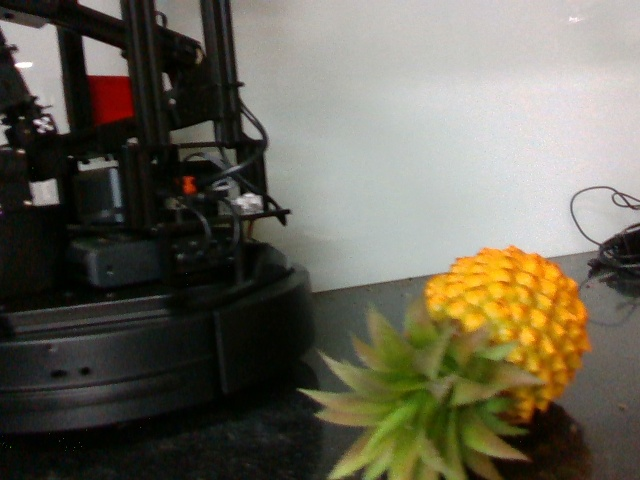pineapple: (303, 239, 590, 480)
